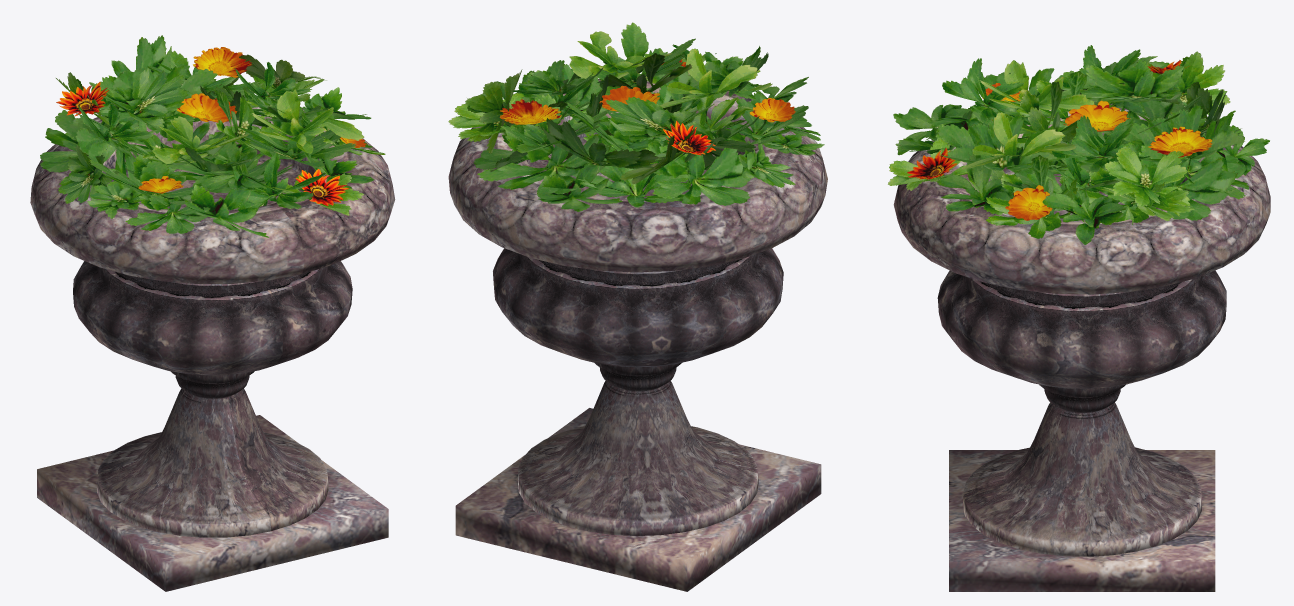
File: vase.obj
3 renders of one model, left to right at view 1: azimuth 30°, elevation 25°; view 2: azimuth 150°, elevation 25°; view 3: azimuth 270°, elevation 25°, orthographic. The views are drawn at different scales.
Parts seen in each view (by area): view 1: sponza_372; view 2: sponza_372; view 3: sponza_372.
Boxes of the visible parts, <box> form: sponza_372: <box>30,35,395,591</box>; sponza_372: <box>448,22,827,591</box>; sponza_372: <box>888,45,1270,591</box>.
Size of the model in its own units: 9.1 by 11.65 by 9.37.
